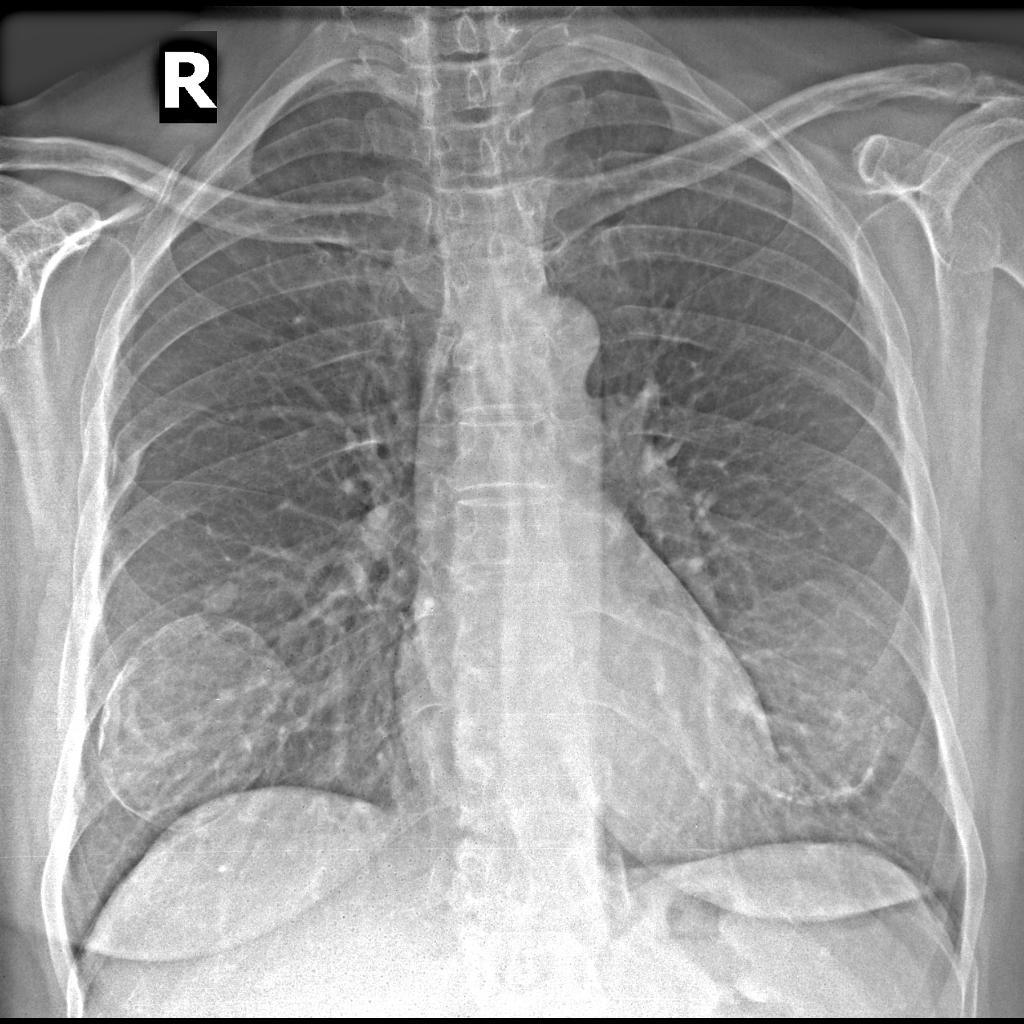Nodule: (203, 575, 247, 619)
